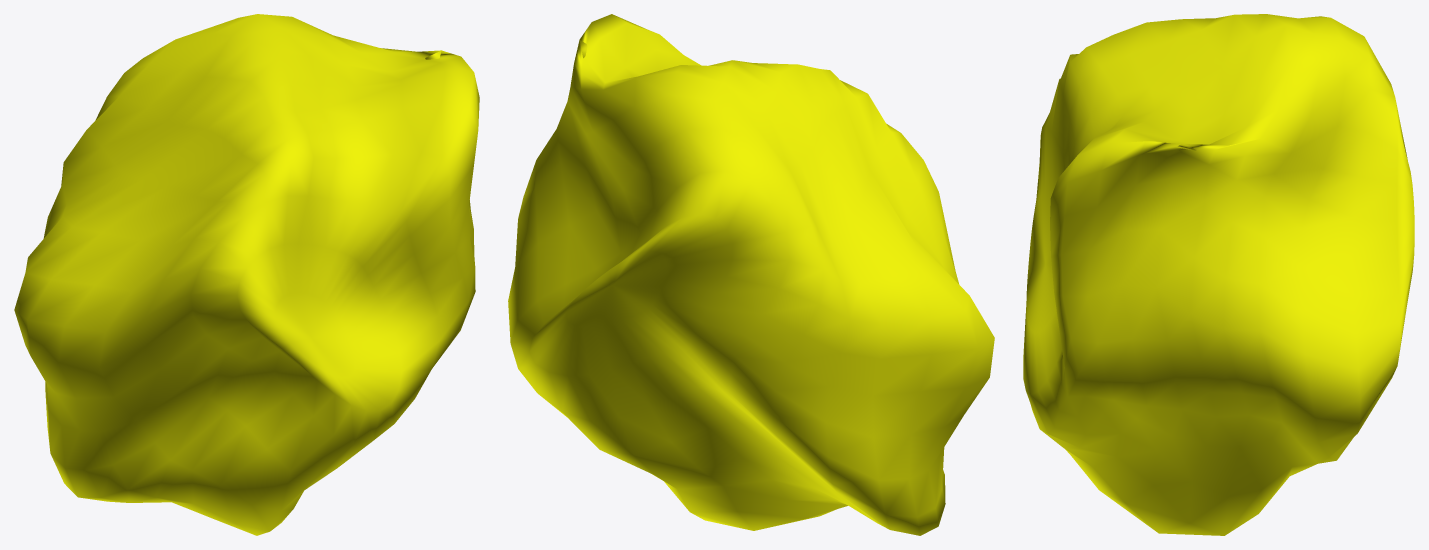
File: explosion.obj
3 renders of one model, left to right at view 1: azimuth 30°, elevation 25°; view 2: azimuth 150°, elevation 25°; view 3: azimuth 270°, elevation 25°, orthographic. The views are drawn at different scales.
Visible parts, largest first — view 1: Sphere01; view 2: Sphere01; view 3: Sphere01.
Boxes of the visible parts, bbox=[...] form: Sphere01: bbox=[14, 14, 479, 535]; Sphere01: bbox=[508, 14, 994, 535]; Sphere01: bbox=[1023, 14, 1414, 535].
Size of the model in its own units: 92.36 by 92.36 by 62.26.
